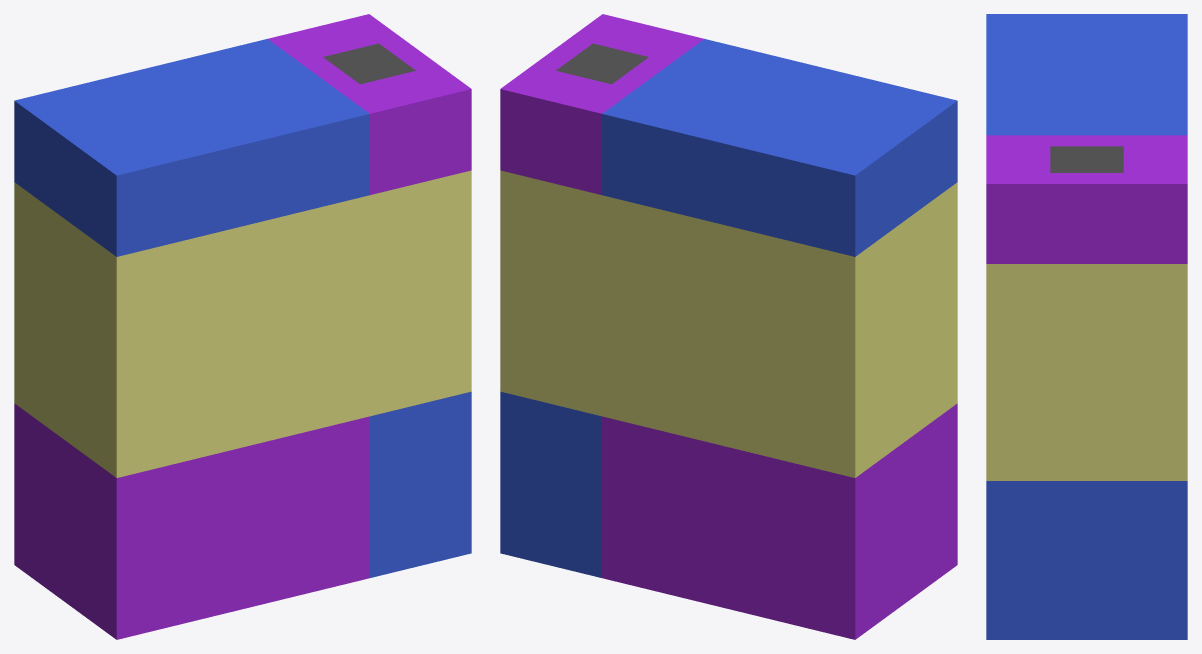
The model's file is ricePackage.fbx.
3 renders of one model, left to right at view 1: azimuth 30°, elevation 25°; view 2: azimuth 150°, elevation 25°; view 3: azimuth 270°, elevation 25°, orthographic.
Parts seen in each view (by area): view 1: RicePackage; view 2: RicePackage; view 3: RicePackage.
Part boxes in pixels (box(x1,y1,x2,y2)): RicePackage: box(14, 14, 471, 639); RicePackage: box(500, 14, 957, 639); RicePackage: box(986, 14, 1187, 639).
Size of the model in its own units: 20 by 25 by 10.
